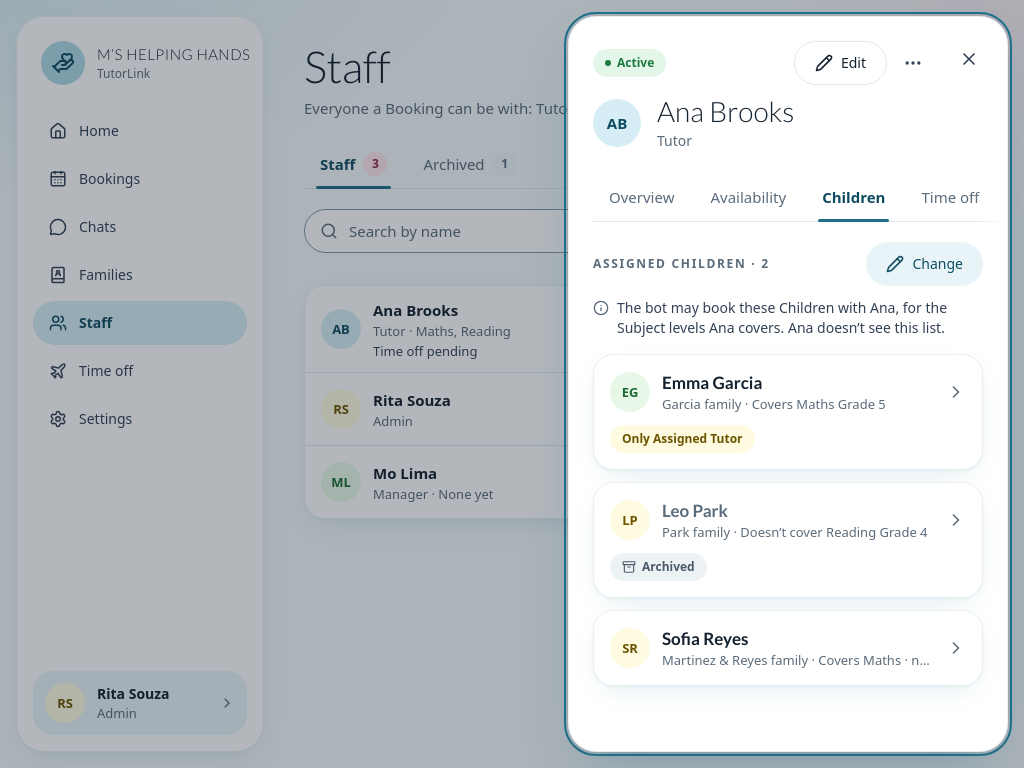
Staff › Children: the Change sheet › keeps the pinned search flush with the top while the list scrolls
Click the button "Change" at (925, 264), box [866,242,983,286]
(page scrolled)
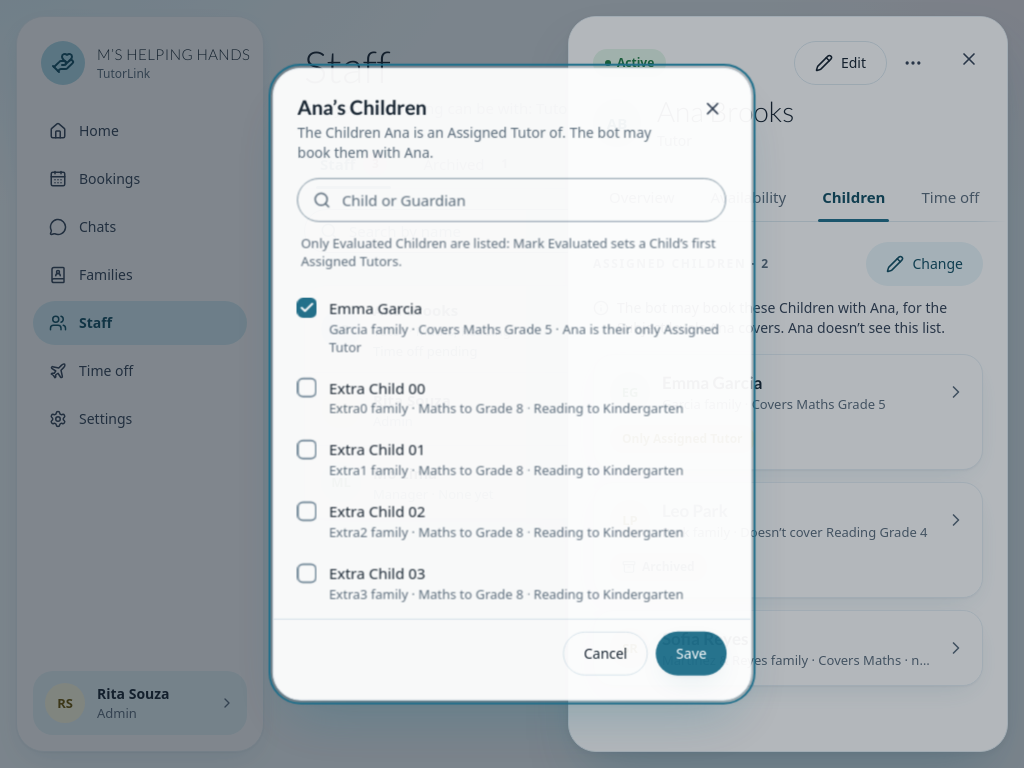
Expected: the checkbox labelled "Emma Garcia" is shown, [297,298,317,318]
